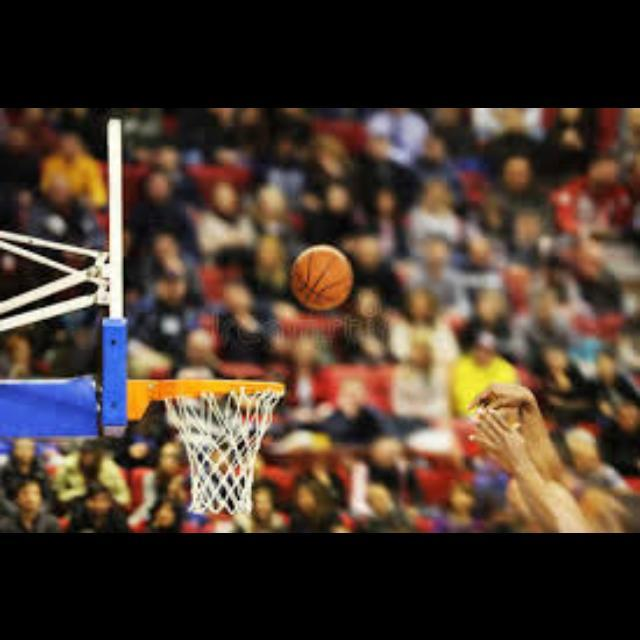basketball: (294, 247, 352, 310)
rim: (160, 378, 284, 512)
